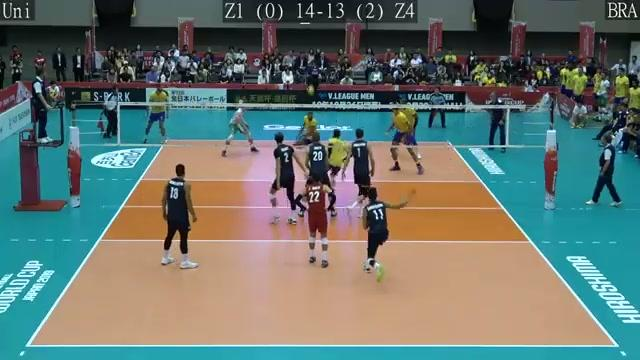ball: (306, 84, 315, 95)
